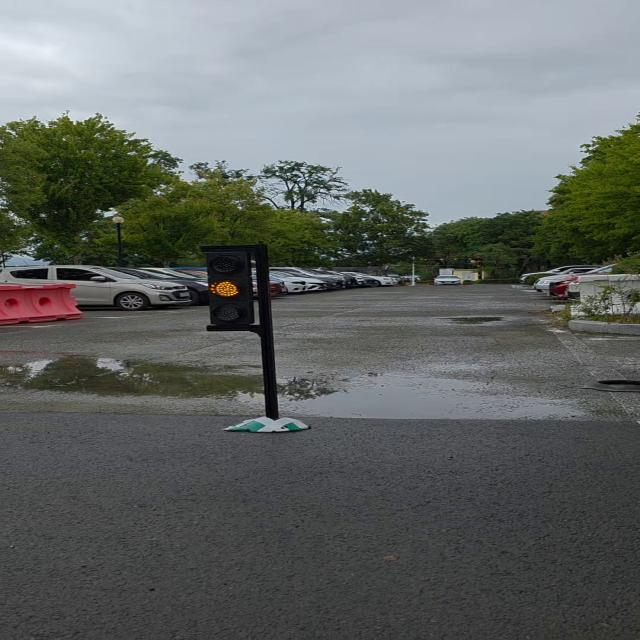yellow: (194, 241, 276, 340)
